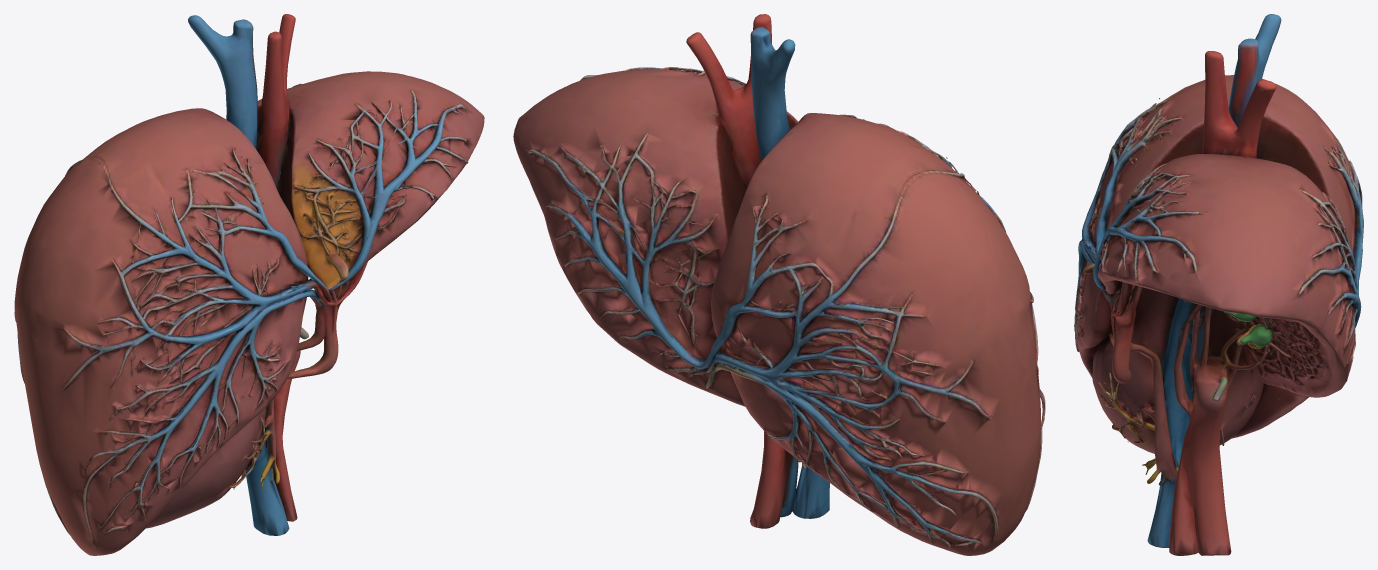
File: liver.glb
The picture shows the model from 3 angles, left to right: view 1: azimuth 30°, elevation 25°; view 2: azimuth 150°, elevation 25°; view 3: azimuth 270°, elevation 25°; orthographic projection. The views are drawn at different scales.
Visible parts, largest first — view 1: tripo_node_1c7e641c-603f-41bd-b81d-f90f99063845; view 2: tripo_node_1c7e641c-603f-41bd-b81d-f90f99063845; view 3: tripo_node_1c7e641c-603f-41bd-b81d-f90f99063845.
Part boxes in pixels (box(x1,y1,x2,y2)): tripo_node_1c7e641c-603f-41bd-b81d-f90f99063845: box(14, 14, 484, 555); tripo_node_1c7e641c-603f-41bd-b81d-f90f99063845: box(513, 14, 1045, 555); tripo_node_1c7e641c-603f-41bd-b81d-f90f99063845: box(1074, 14, 1363, 555).
Size of the model in its own units: 32545 by 32761 by 16783.
Materials: 1 (1 with a texture image).
